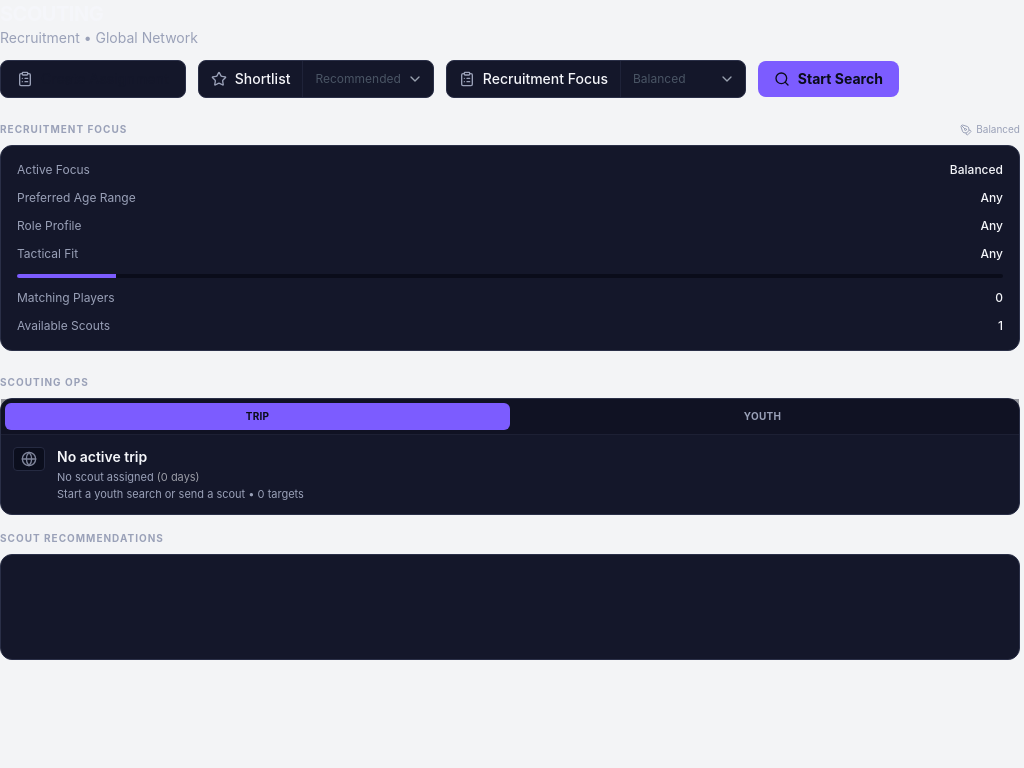
Test: ScoutingTab › renders the youth recruitment card when scouts are available
The width and height of the screenshot is (1024, 768).
Click the button "Youth". click: click(762, 416)
box: [510,403,1015,430]
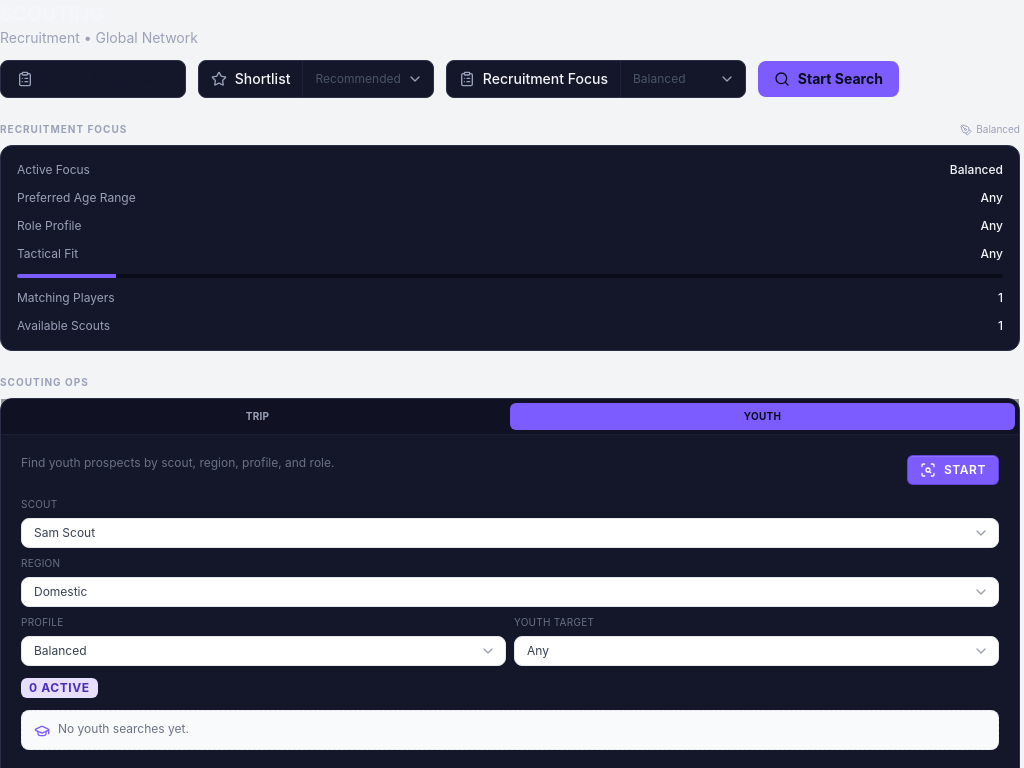
Result: the text "No youth searches yet." is shown at [58,721,189,738]
